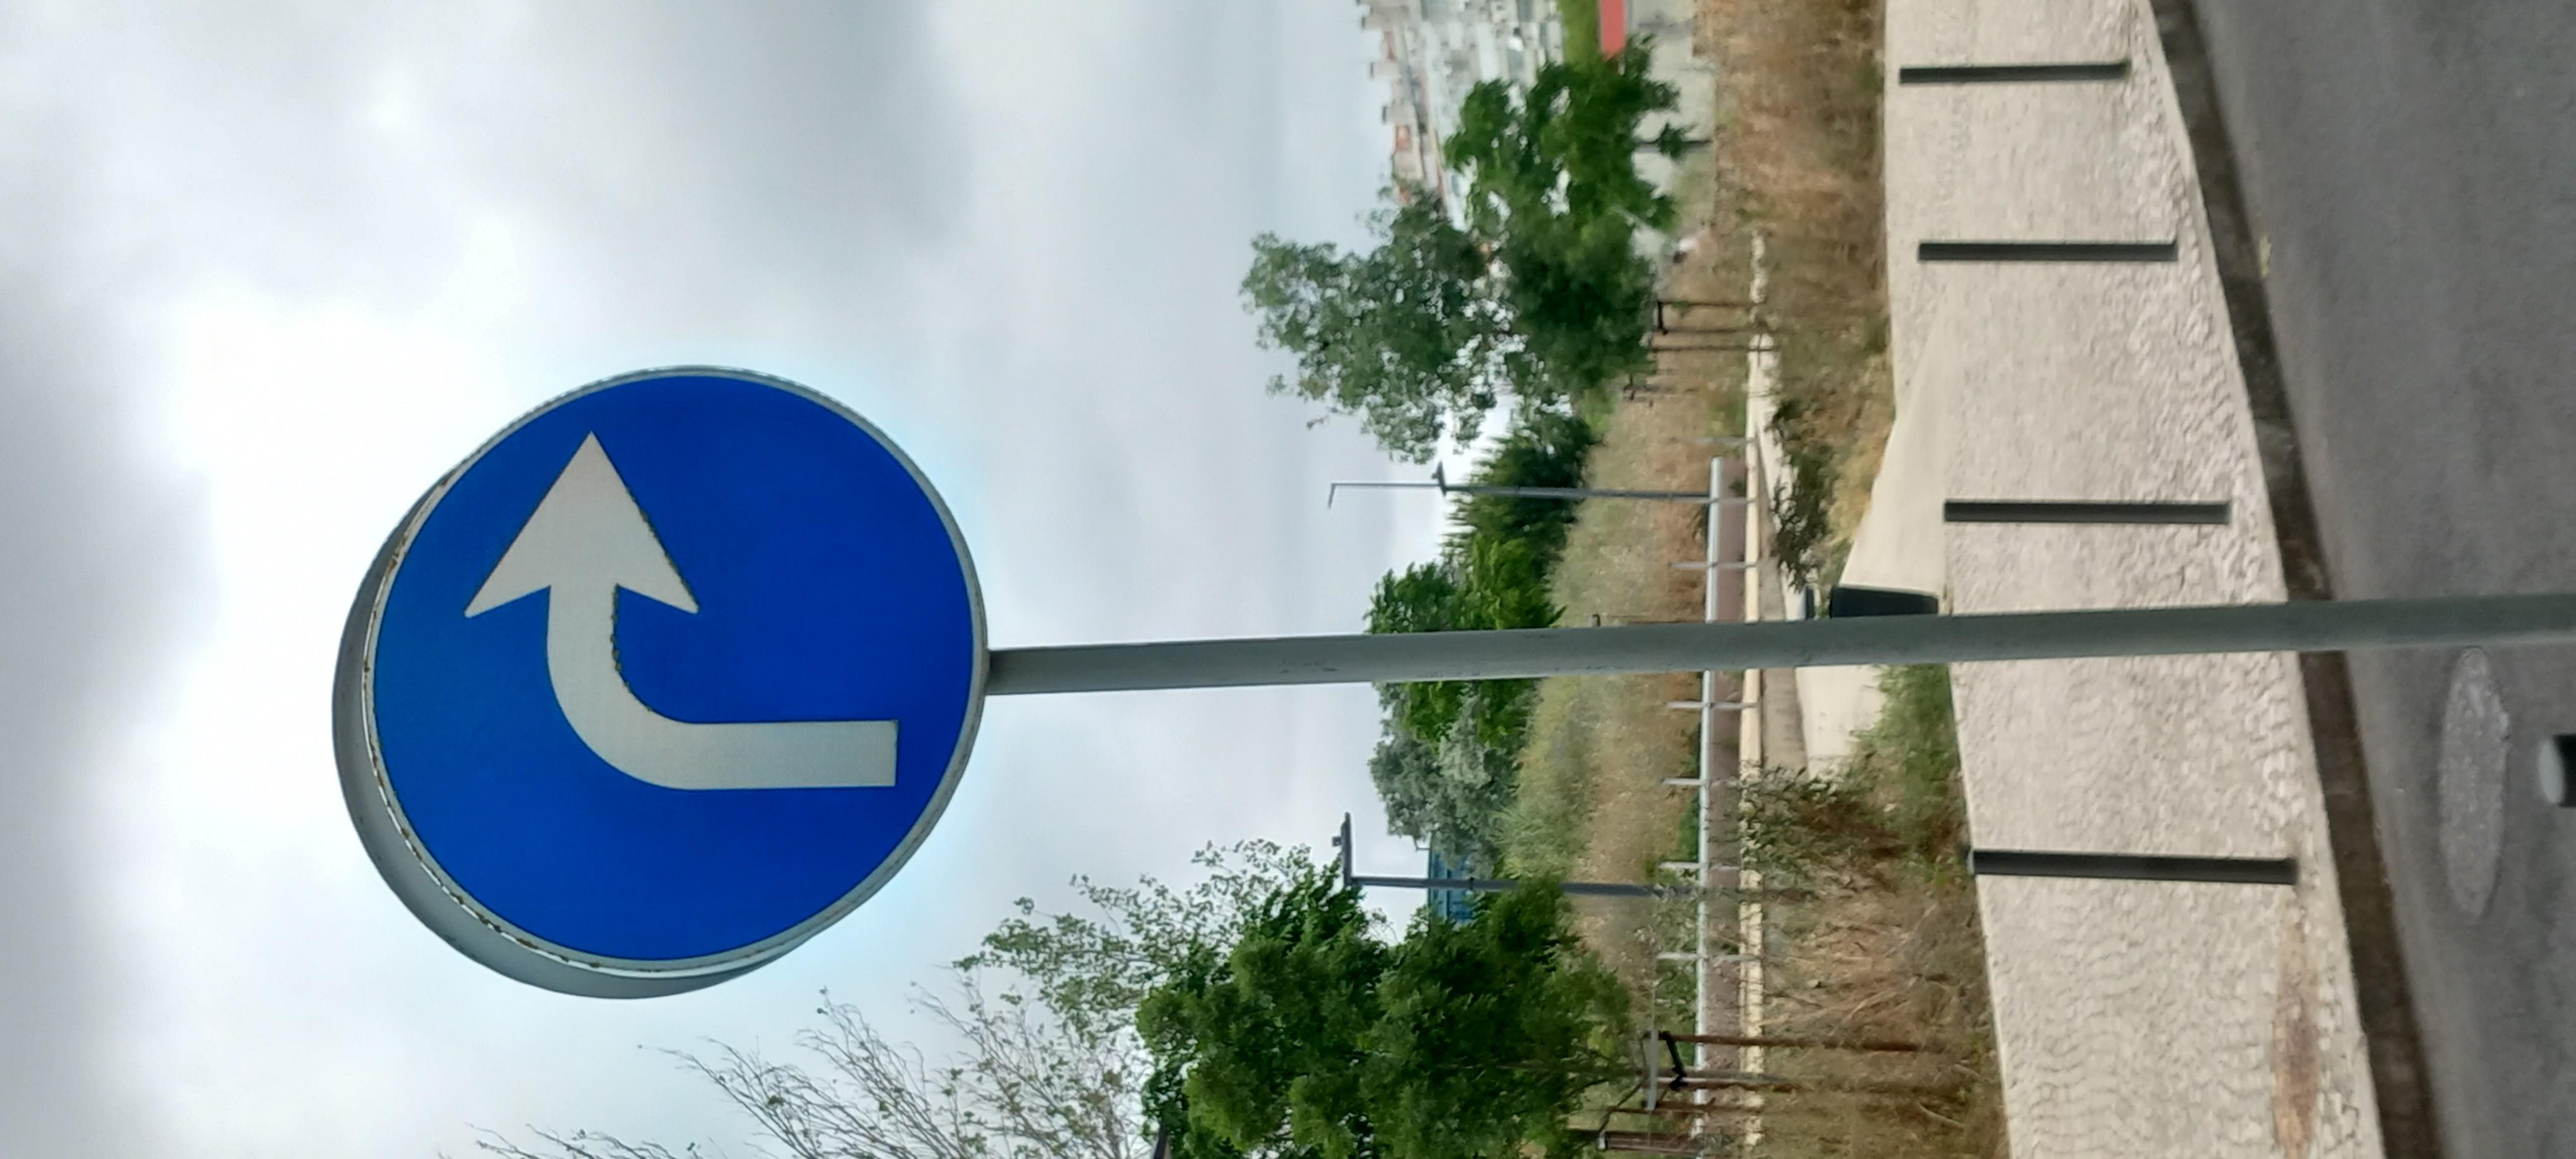sentido obrigatorio: (470, 151, 1755, 437)
